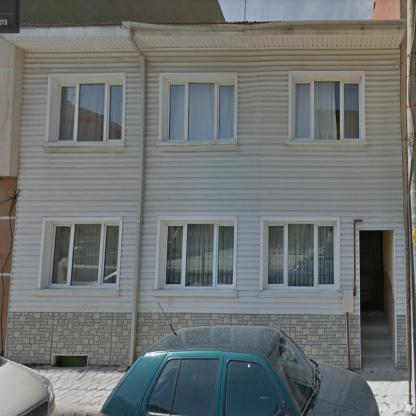door: (360, 232, 384, 312)
window: (161, 220, 234, 290), (265, 221, 337, 291), (47, 220, 119, 288), (166, 80, 236, 144), (292, 78, 361, 142), (56, 82, 124, 145)
